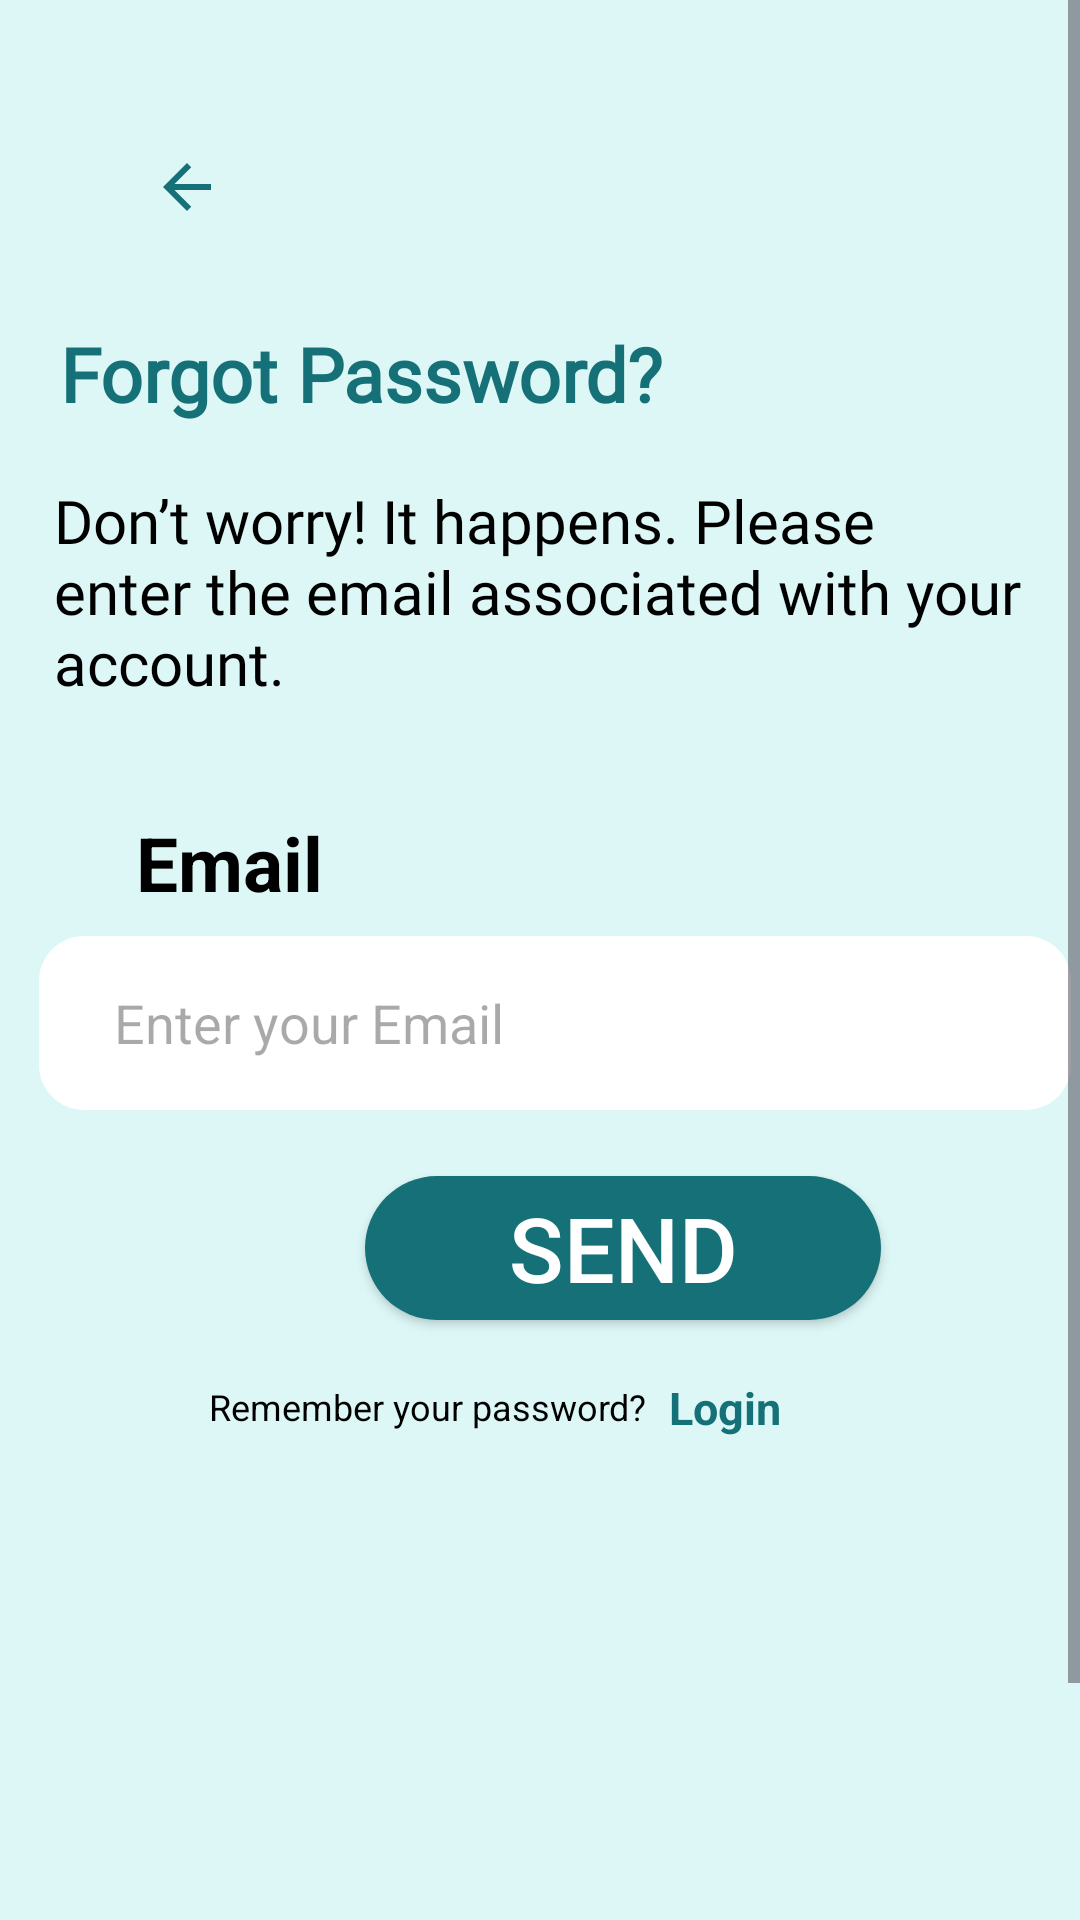

Named icons in this screenshot (1080 × 1920) and their centers, (x=x, y=y):
backbutton: (x=187, y=187)
